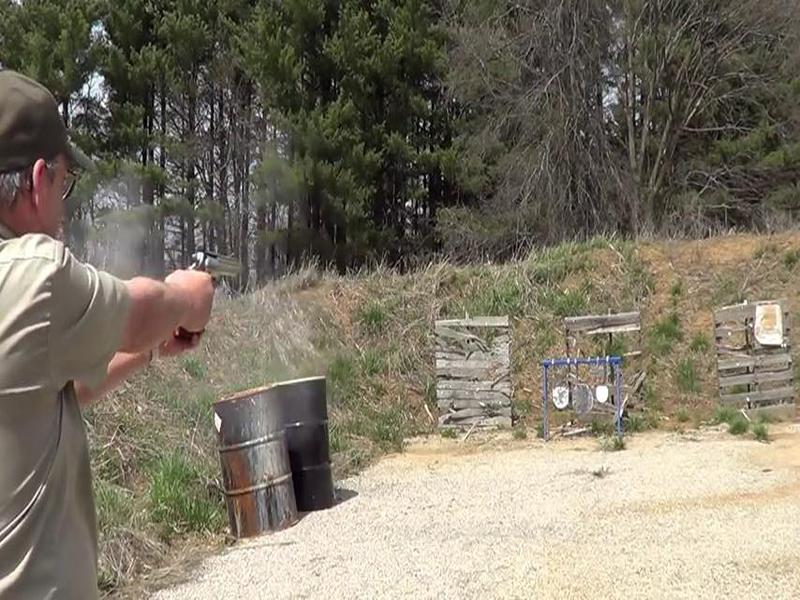Revolver: (167, 234, 248, 303)
